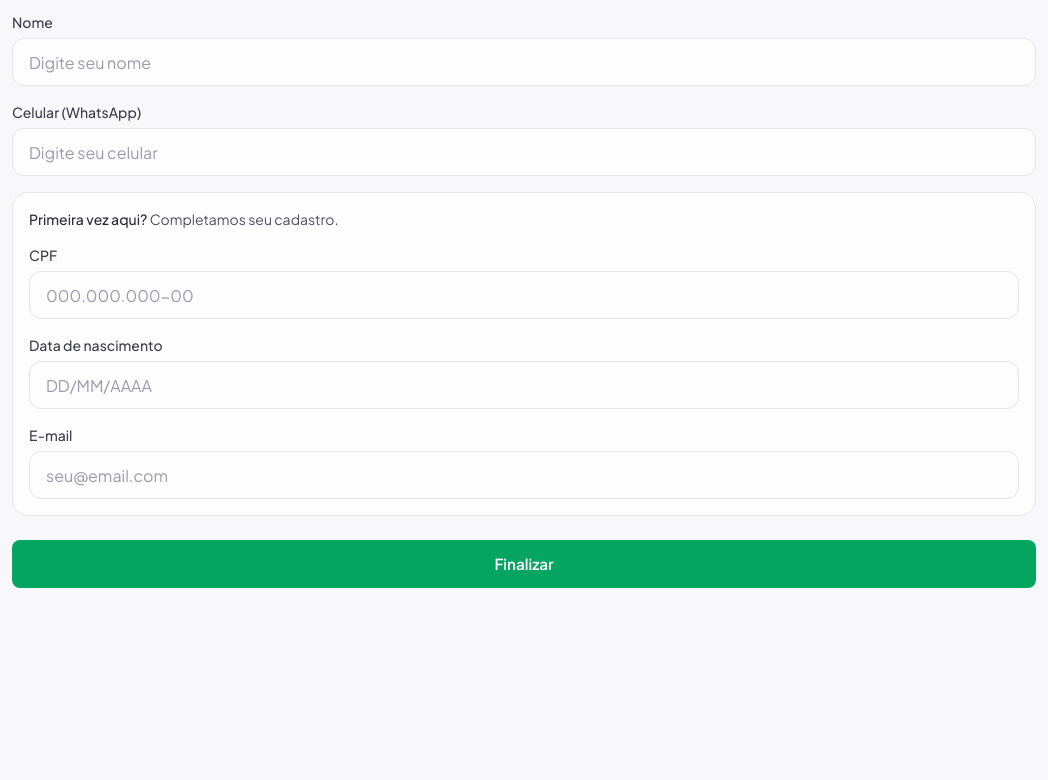
Scenario: validação e envio › formata o CPF e a data enquanto digita
Step 1. Type "52998224725" into the field labelled "CPF" → (524, 295), box 29,271 -> 1019,319
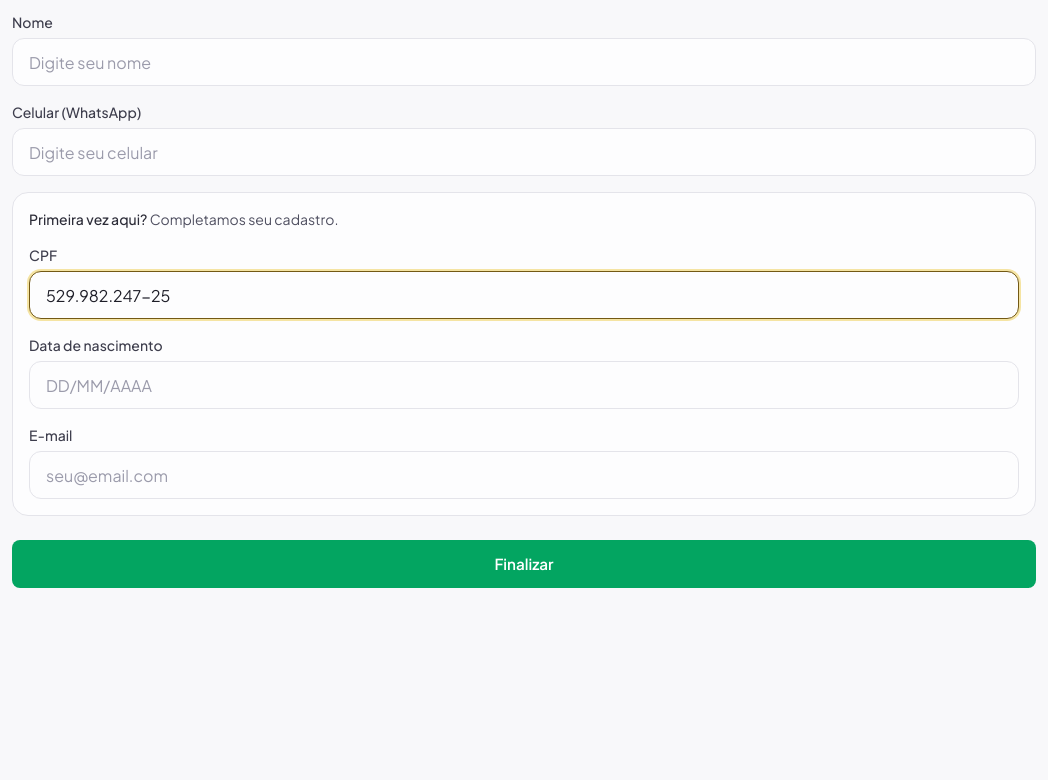
Step 2. Type "31101990" into the field labelled "Data de nascimento" → (524, 385), box 29,361 -> 1019,409
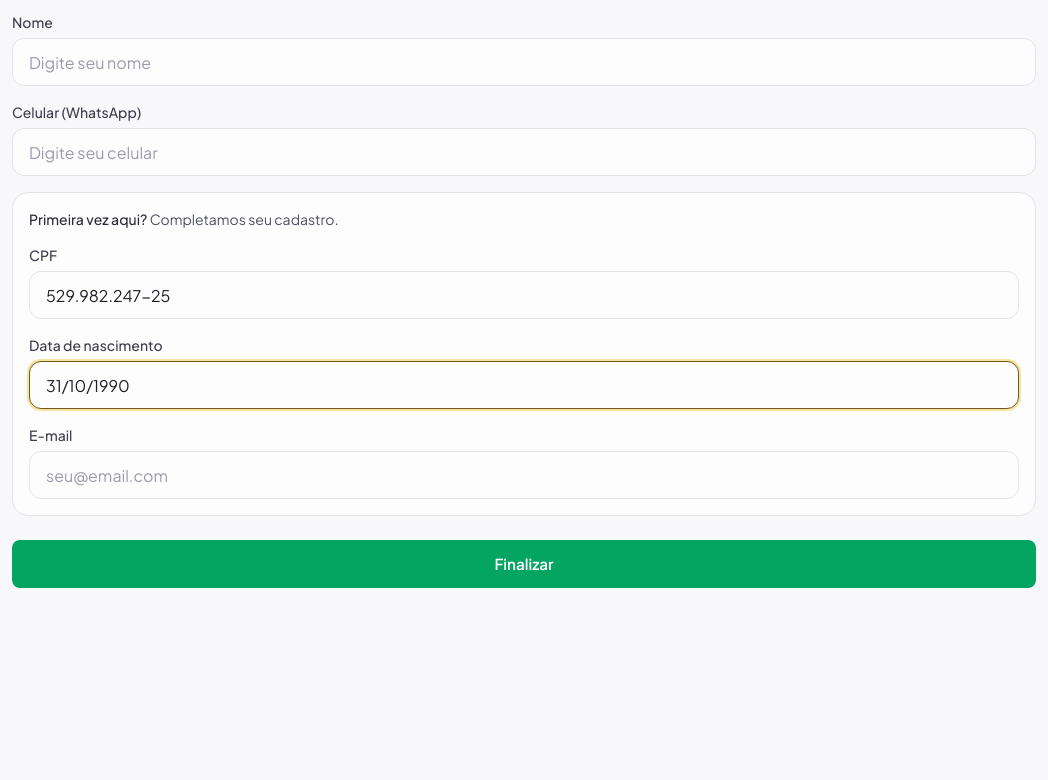
Check: the field labelled "CPF" holds "529.982.247-25", box 29,271 -> 1019,319
Check: the field labelled "Data de nascimento" holds "31/10/1990", box 29,361 -> 1019,409
